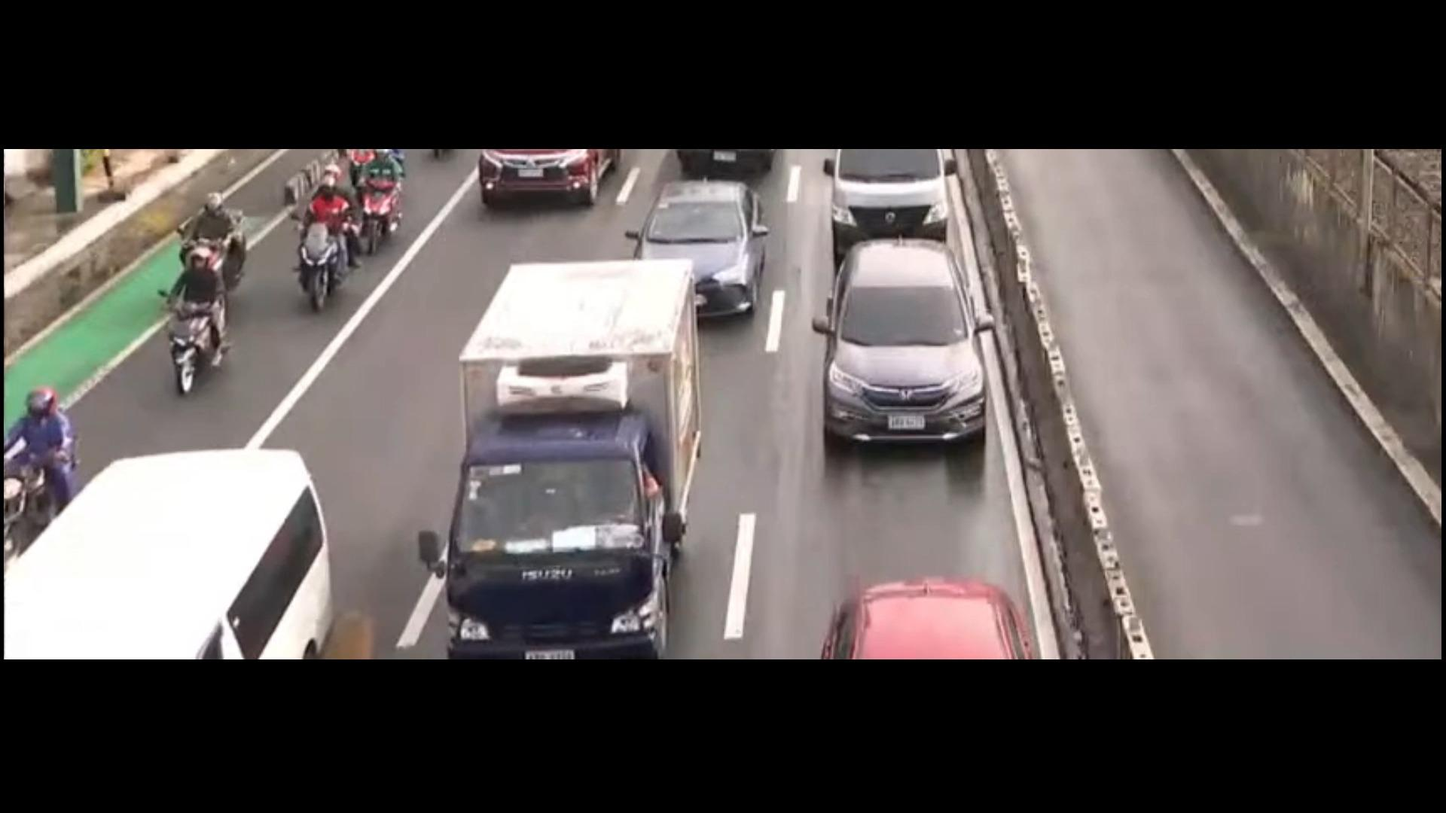Motorcycle: (150, 213, 249, 410), (0, 371, 106, 530), (298, 160, 358, 313), (346, 151, 422, 265), (177, 172, 255, 270)
SUV: (814, 224, 1010, 474)
Sedan: (612, 166, 787, 327)
Truck: (394, 243, 714, 667)
Van: (0, 433, 352, 658)
